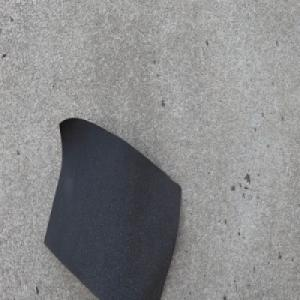PaintChip: (42, 114, 183, 300)
